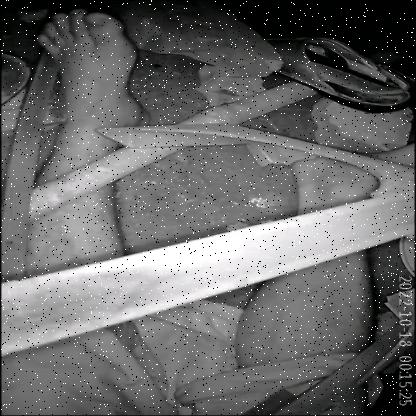leg: (221, 134, 416, 355), (0, 2, 153, 273)
